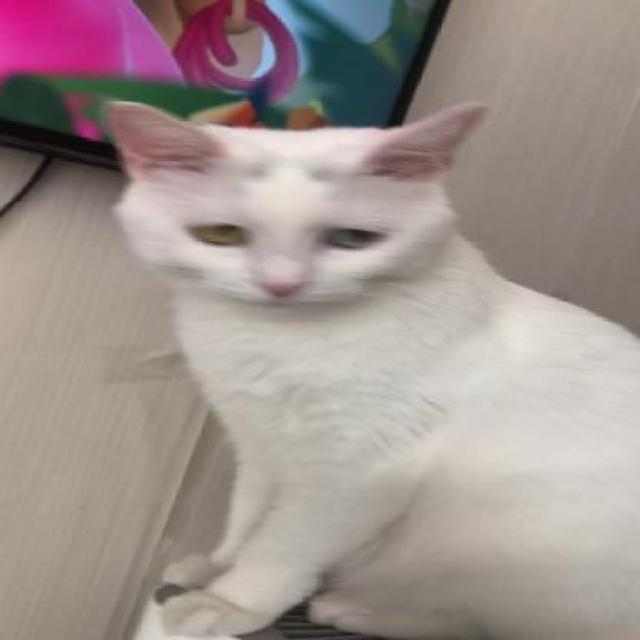cat-face: (105, 110, 463, 312)
